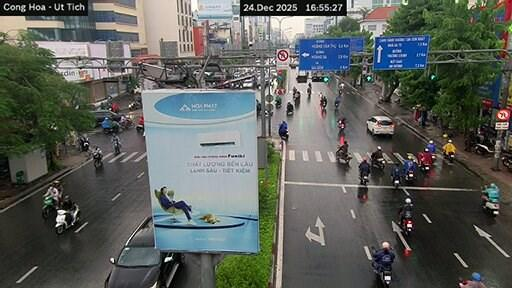motorbike: (55, 204, 79, 234), (372, 262, 392, 287), (42, 196, 56, 218), (481, 199, 499, 216), (400, 212, 413, 235), (376, 268, 391, 287), (482, 201, 499, 216), (475, 141, 494, 154), (370, 157, 385, 169), (78, 135, 89, 151), (336, 152, 352, 163), (103, 125, 123, 133), (120, 118, 134, 129), (501, 151, 511, 166), (128, 101, 142, 111), (93, 152, 102, 167), (404, 170, 414, 183), (443, 152, 454, 162), (360, 172, 368, 185), (279, 130, 288, 141), (113, 141, 120, 155), (392, 175, 399, 188), (338, 120, 345, 132), (420, 163, 430, 171), (293, 92, 300, 103), (136, 124, 144, 133), (320, 100, 326, 111), (286, 106, 293, 114), (430, 152, 436, 161), (275, 100, 281, 107), (307, 87, 311, 97)
